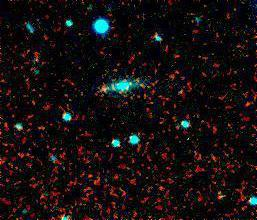star: (89, 75, 119, 105)
